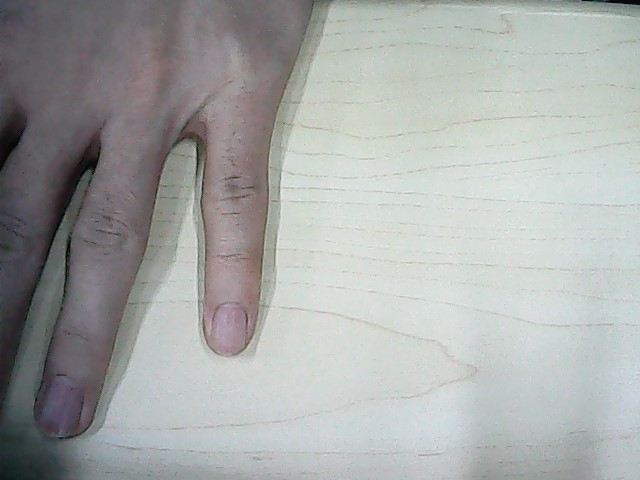nail: (36, 374, 81, 439), (212, 301, 249, 353)
